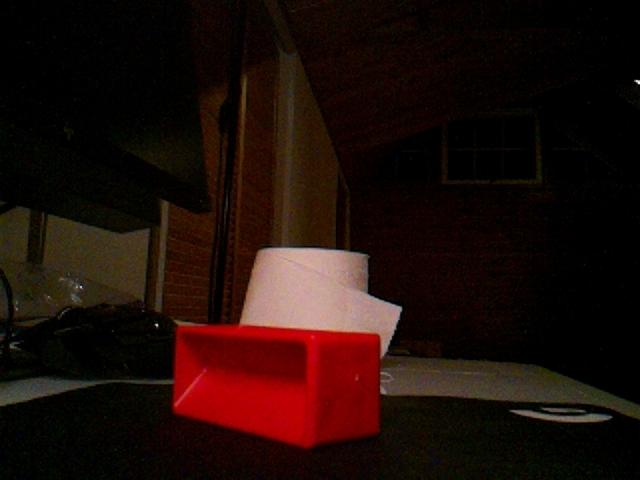red: (171, 322, 383, 449)
